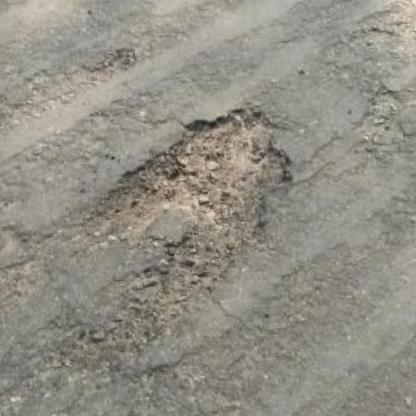pothole: (75, 96, 312, 334)
